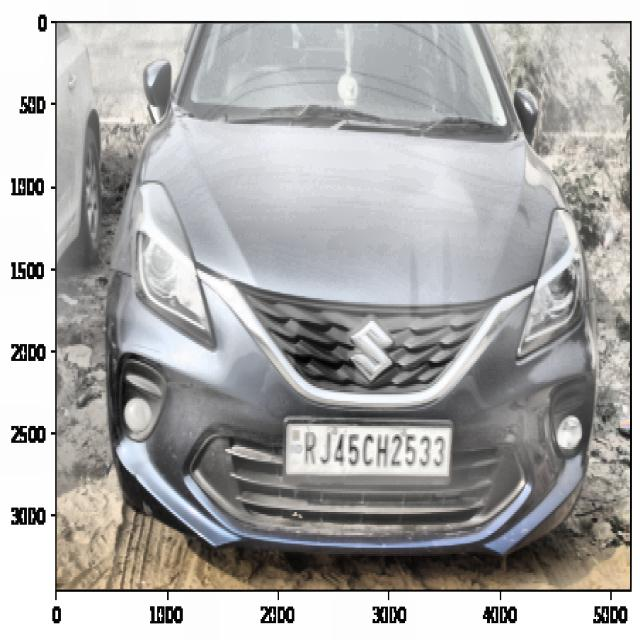license_plate: (297, 421, 450, 478)
